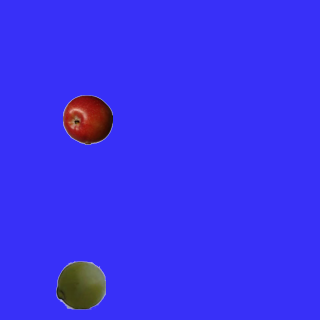Apple Braeburn: (62, 94, 112, 144)
Grape White 4: (55, 259, 105, 309)
